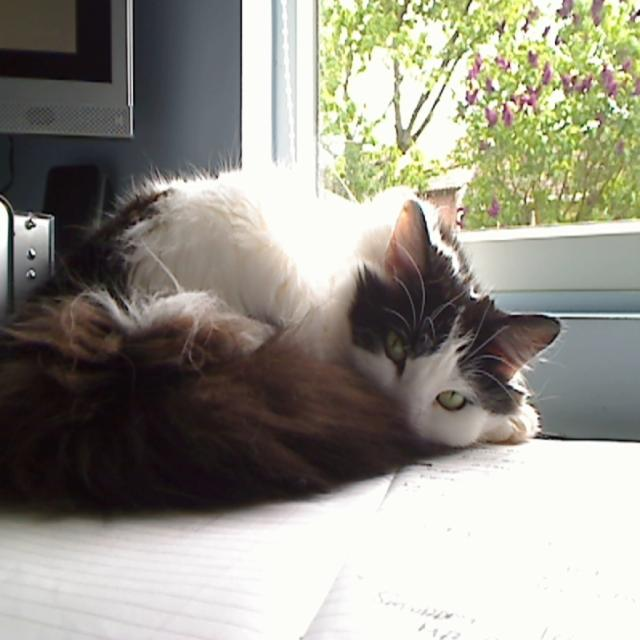Cat: (71, 160, 566, 462)
